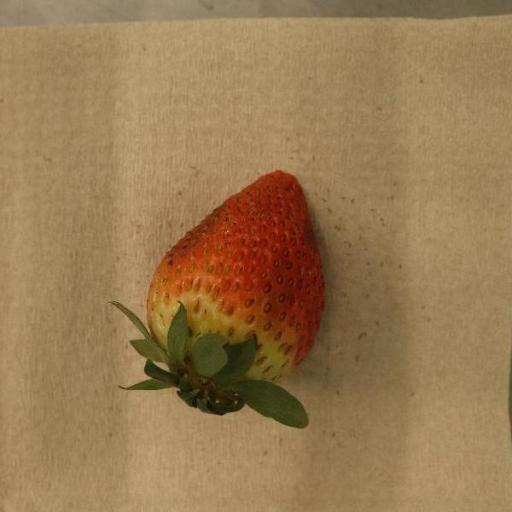Strawberry: (110, 171, 326, 430)
